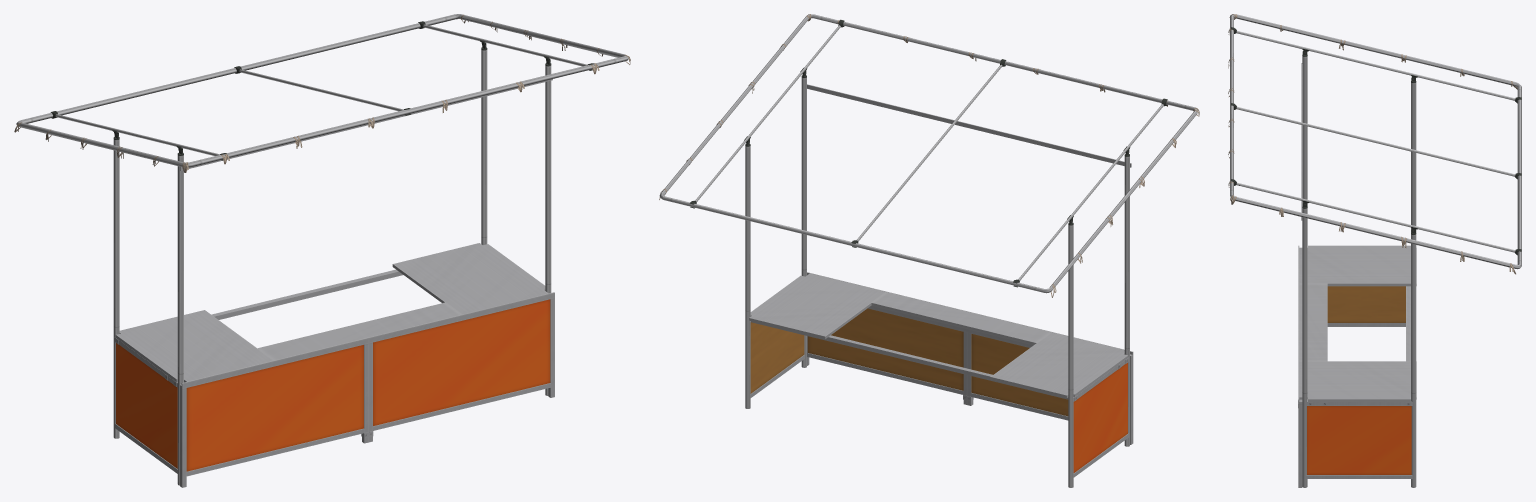
The model's file is jsf_4P_s03_c01_t03.fbx.
The picture shows the model from 3 angles, left to right: view 1: azimuth 30°, elevation 25°; view 2: azimuth 150°, elevation 25°; view 3: azimuth 270°, elevation 25°; orthographic projection. The views are drawn at different scales.
Parts seen in each view (by area): view 1: Base_s03_c01, Table_4P_s03_t03, Pillar4_s03, Rope_4P_s03; view 2: Base_s03_c01, Pillar4_s03, Table_4P_s03_t03; view 3: Pillar4_s03, Base_s03_c01, Table_4P_s03_t03, Rope_4P_s03.
Boxes of the visible parts, bbox=[...] form: Base_s03_c01: bbox=[114, 292, 554, 487]; Table_4P_s03_t03: bbox=[115, 243, 548, 386]; Pillar4_s03: bbox=[16, 14, 628, 485]; Rope_4P_s03: bbox=[14, 14, 630, 172]; Base_s03_c01: bbox=[750, 272, 1133, 477]; Pillar4_s03: bbox=[659, 14, 1198, 487]; Table_4P_s03_t03: bbox=[749, 273, 1128, 400]; Pillar4_s03: bbox=[1230, 14, 1521, 487]; Base_s03_c01: bbox=[1298, 245, 1412, 487]; Table_4P_s03_t03: bbox=[1299, 245, 1416, 405]; Rope_4P_s03: bbox=[1228, 14, 1517, 274].
Size of the model in its own units: 316 by 243 by 211.
